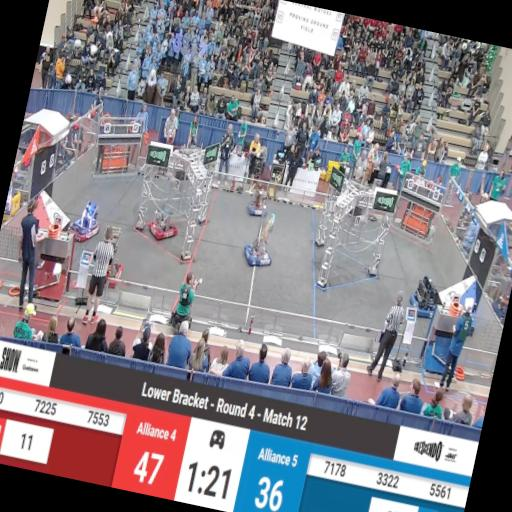robot: (406, 274, 446, 320), (66, 198, 105, 245), (146, 206, 181, 243), (241, 239, 274, 269), (247, 188, 271, 218)
